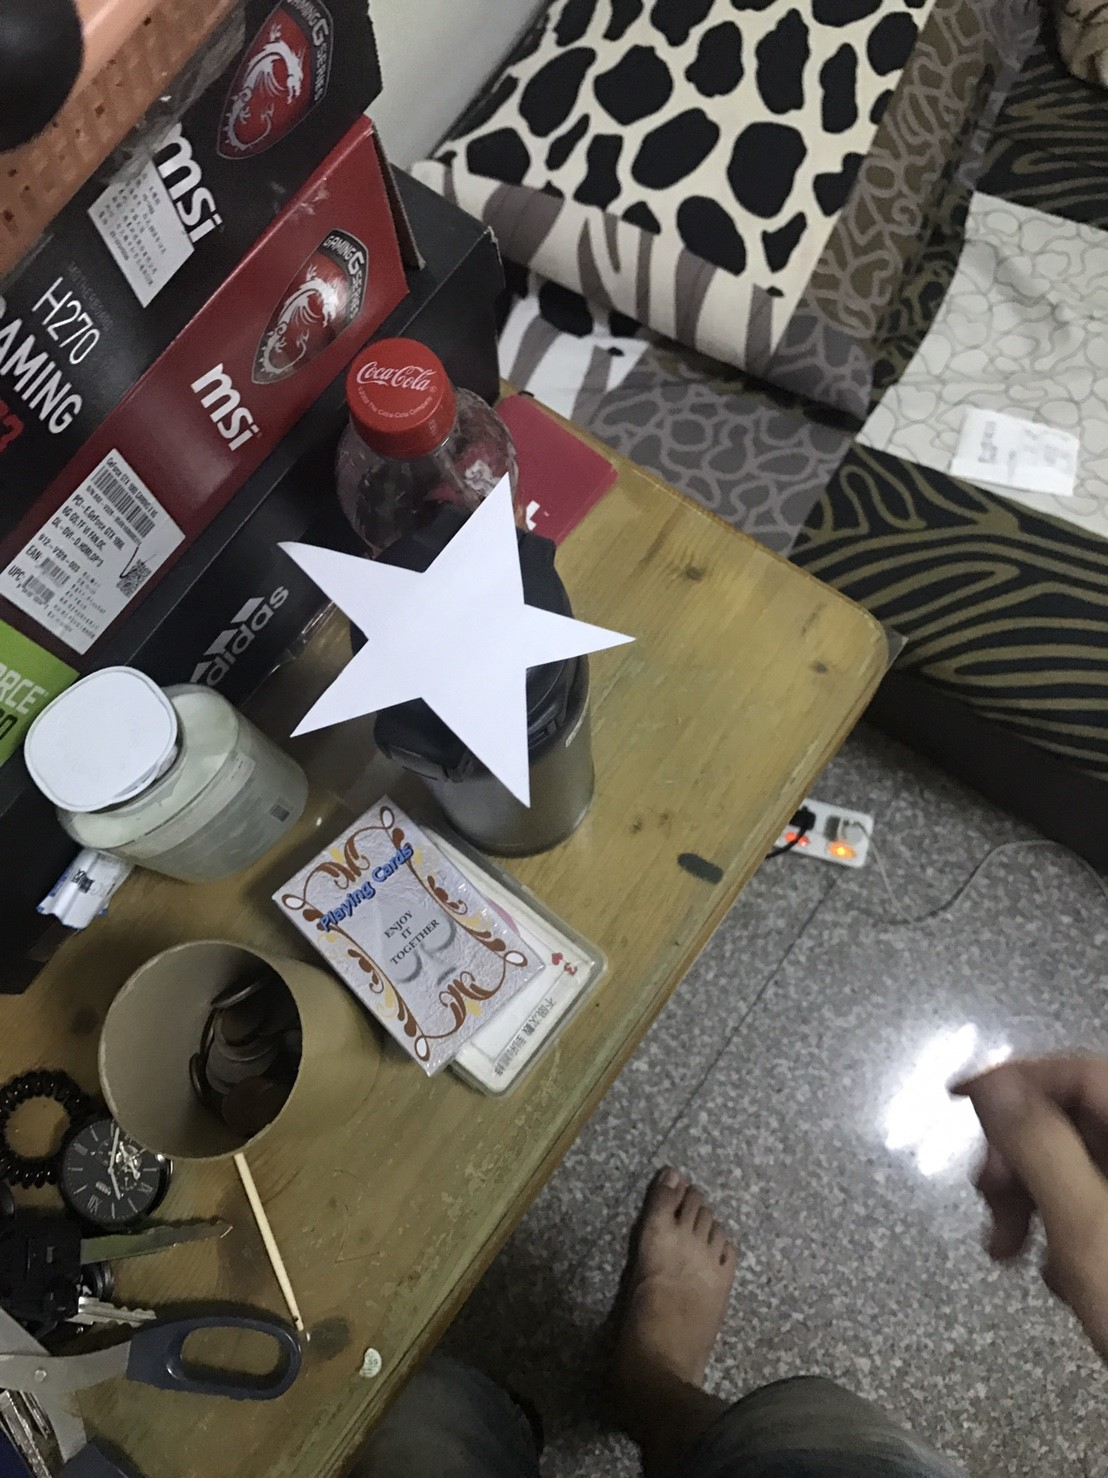star: (265, 466, 649, 818)
